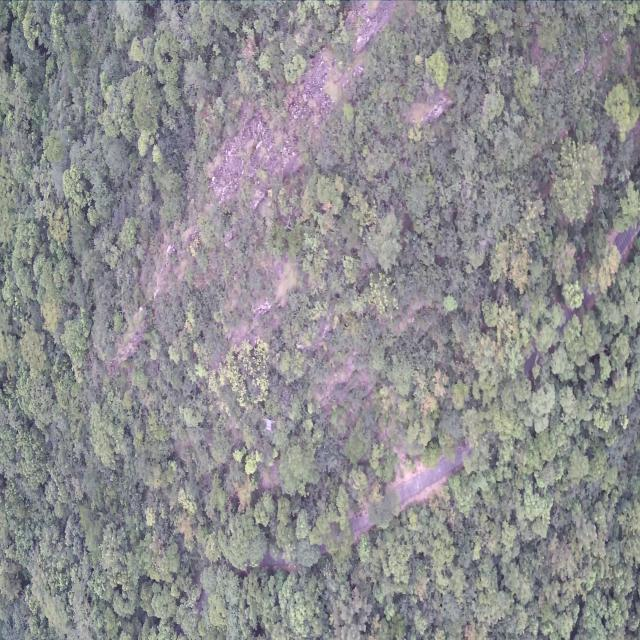UAV: (262, 416, 276, 436)
